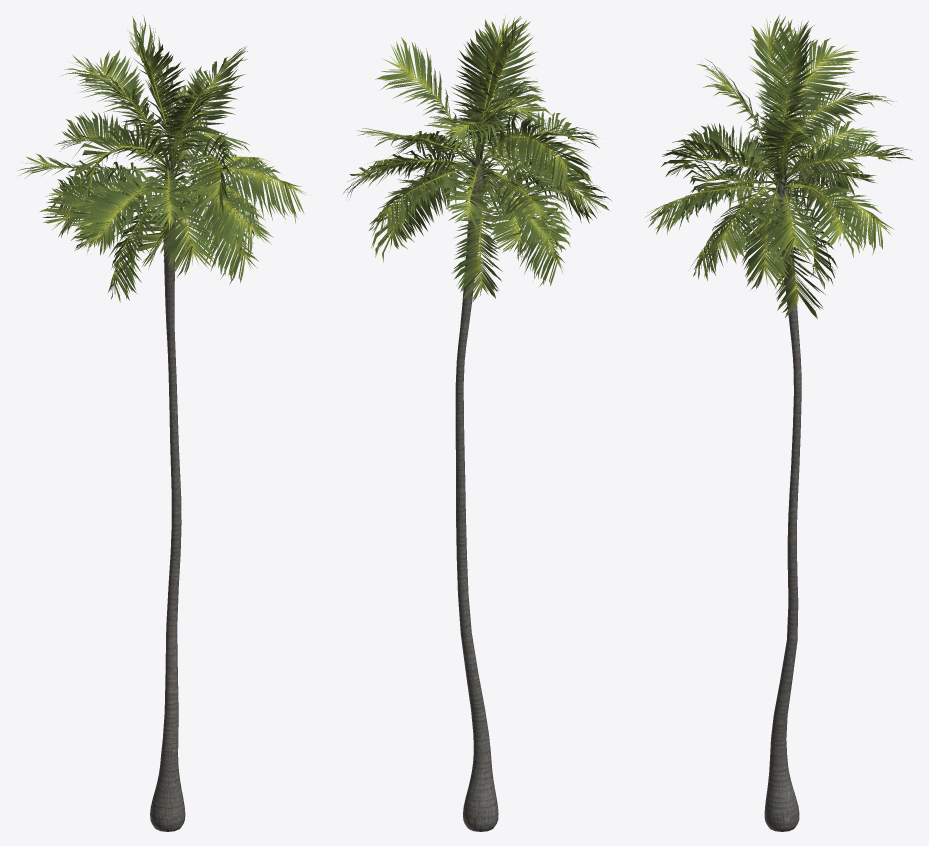
The model's file is coconut_palm.glb.
3 views of the same model, side by side, from view 1: azimuth 30°, elevation 25°; view 2: azimuth 150°, elevation 25°; view 3: azimuth 270°, elevation 25° (orthographic). The views are drawn at different scales.
Parts seen in each view (by area): view 1: Coconut-tree_w; view 2: Coconut-tree_w; view 3: Coconut-tree_w.
Boxes of the visible parts, box(x1,y1,x2,y2) form: Coconut-tree_w: box(18, 15, 310, 831); Coconut-tree_w: box(343, 15, 611, 831); Coconut-tree_w: box(645, 15, 913, 831).
Bounding box in the file's own units: 4.15 × 13.94 × 4.32.
Materials: 2 (2 with a texture image).
